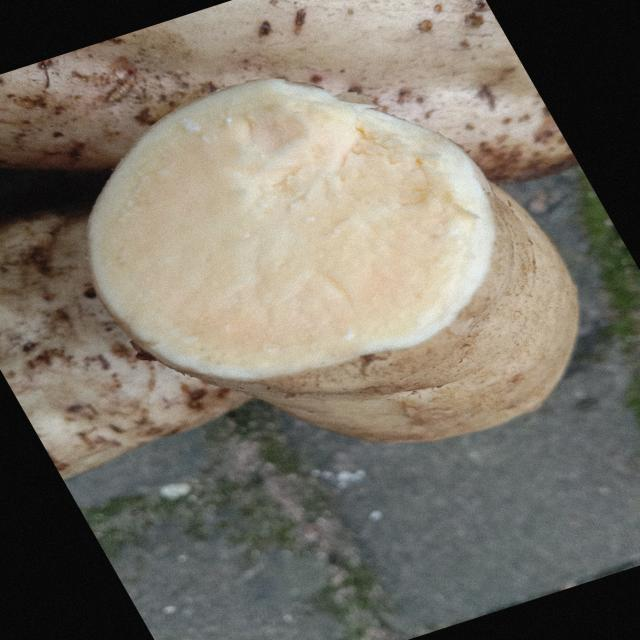Healthy Sweet Potato: (90, 79, 495, 379)
